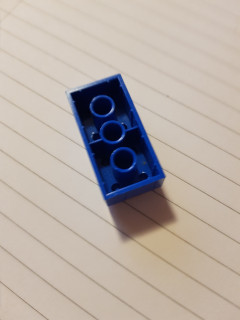2x4 blue: (64, 73, 167, 207)
